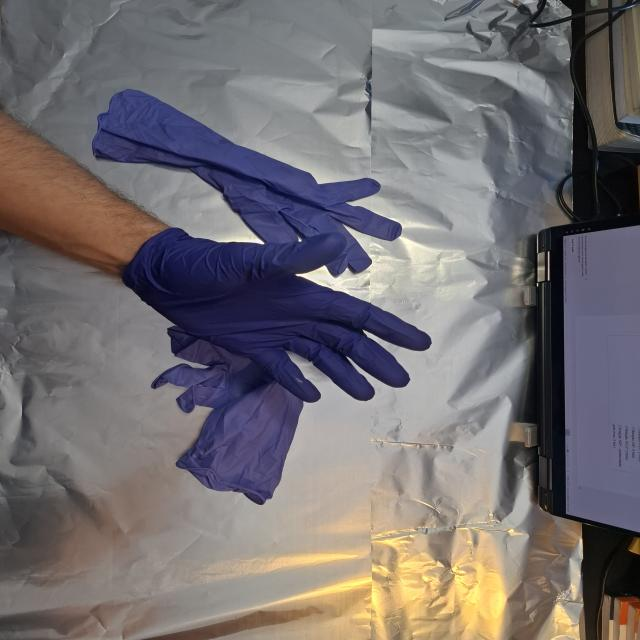glove_on: (125, 228, 436, 404)
